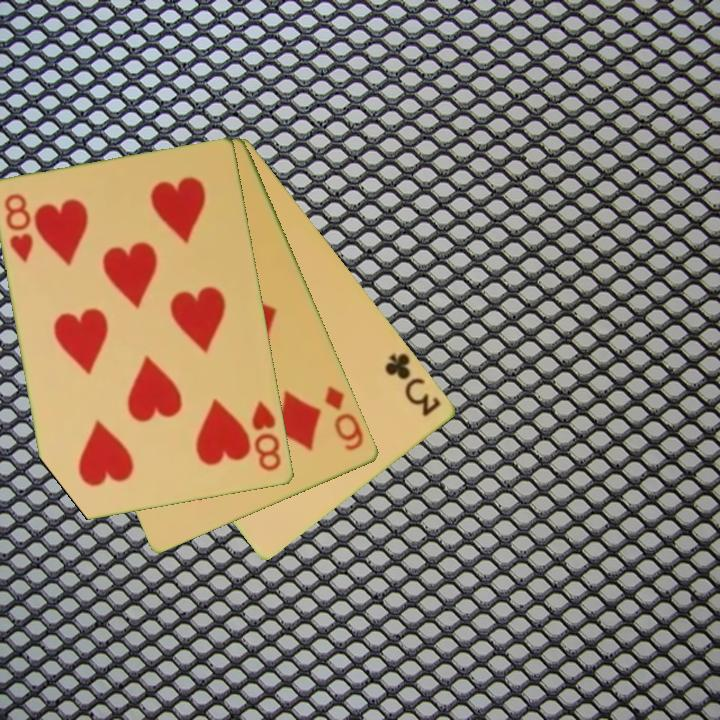3c: (382, 349, 445, 420)
6d: (322, 382, 367, 454)
8h: (248, 397, 284, 475), (1, 190, 37, 266)
